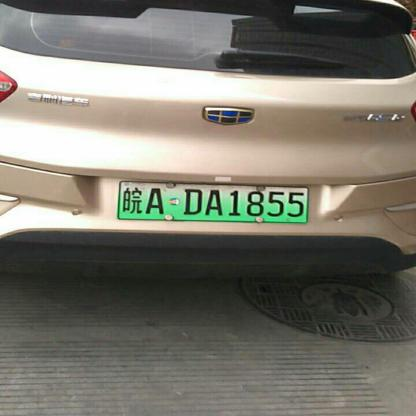lp: (118, 181, 307, 221)
